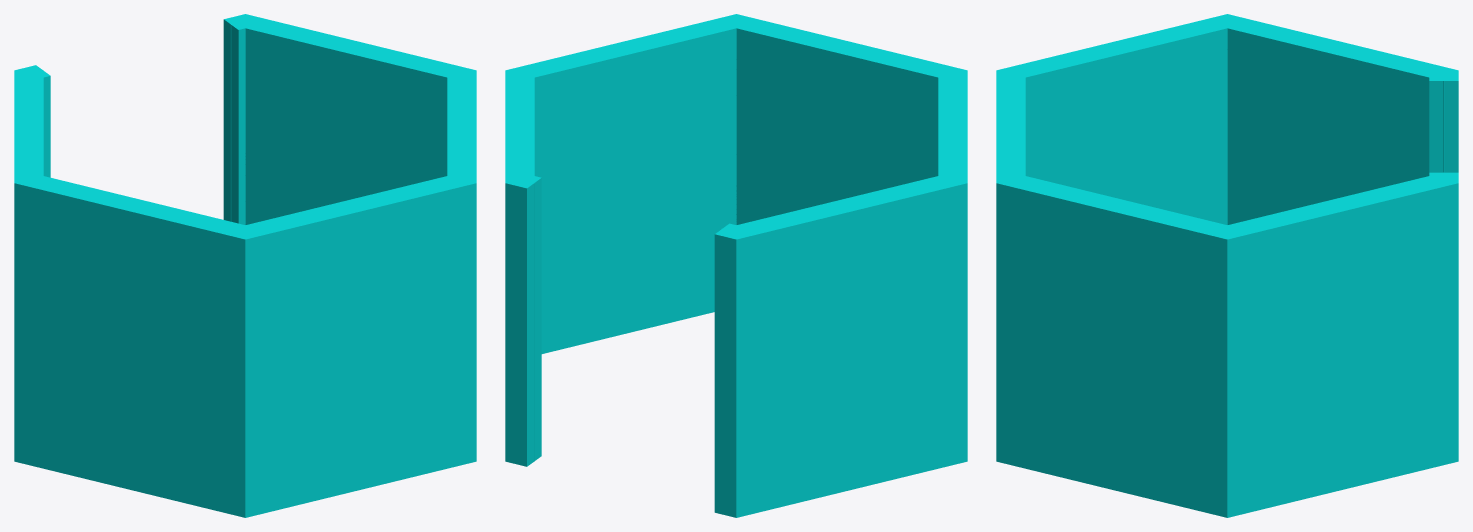
The model's file is SM_Bld_Wall_Tower_Windows_01_Collision.fbx.
3 renders of one model, left to right at view 1: azimuth 30°, elevation 25°; view 2: azimuth 150°, elevation 25°; view 3: azimuth 270°, elevation 25°, orthographic.
Parts seen in each view (by area): view 1: SM_Bld_Wall_Tower_Windows_01_Collision; view 2: SM_Bld_Wall_Tower_Windows_01_Collision; view 3: SM_Bld_Wall_Tower_Windows_01_Collision.
Boxes of the visible parts, <box> form: SM_Bld_Wall_Tower_Windows_01_Collision: <box>14,14,476,517</box>; SM_Bld_Wall_Tower_Windows_01_Collision: <box>505,14,967,517</box>; SM_Bld_Wall_Tower_Windows_01_Collision: <box>996,14,1458,517</box>.
Bounding box in the file's own units: 536 × 309 × 464.
